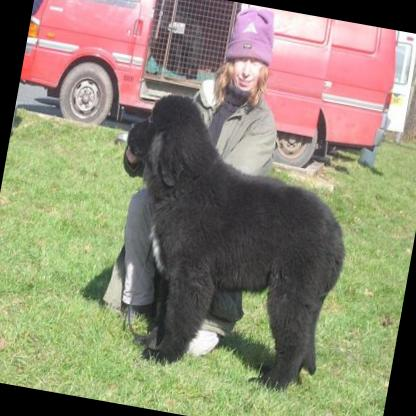Newfoundland: (86, 84, 367, 396)
